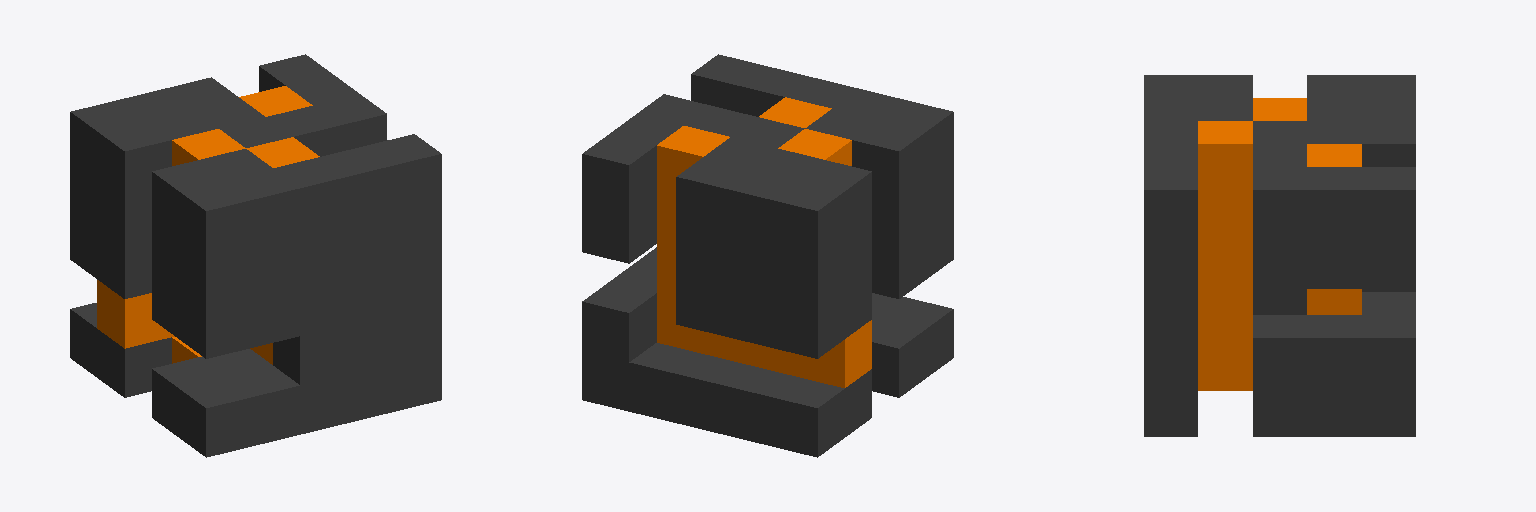
The picture shows the model from 3 angles: view 1: azimuth 30°, elevation 25°; view 2: azimuth 150°, elevation 25°; view 3: azimuth 270°, elevation 25°; orthographic projection.
Parts seen in each view (by area): view 1: SmalBox; view 2: SmalBox; view 3: SmalBox.
Part boxes in pixels (x1,y1,x2,y2): SmalBox: (70,54,441,457); SmalBox: (582,54,953,457); SmalBox: (1144,75,1415,436).
Size of the model in its own units: 5 by 5 by 5.
Materials: 1 (1 with a texture image).